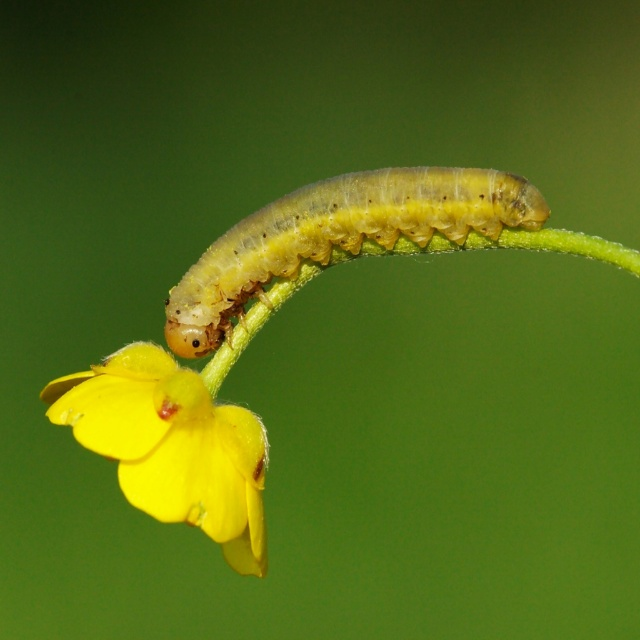Caterpillar: (164, 163, 548, 358)
